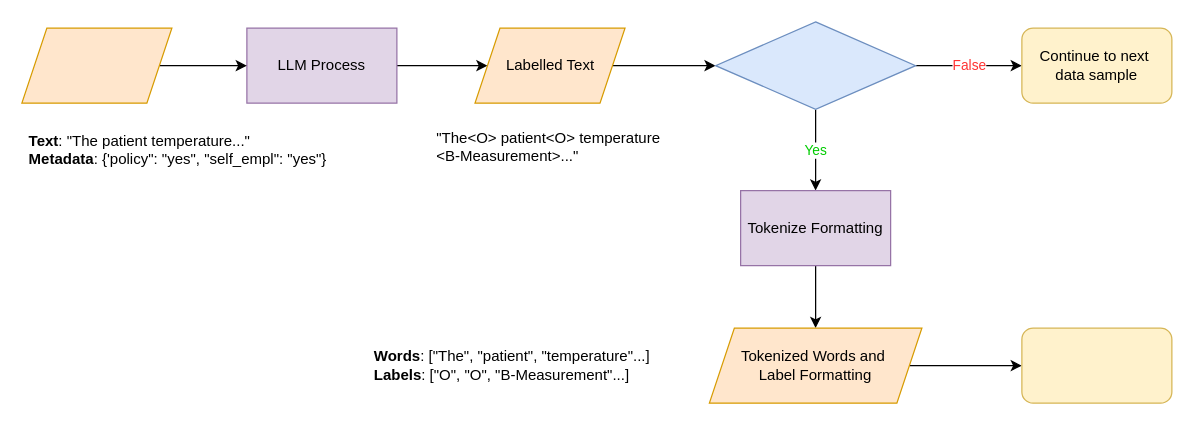
Image size: 1194x425. Some labels were removed from this diagram. The centre of each missing label's shape, as x and y in pixels:
Output Formatting Correct?: the point at 815,65
Raw Text and Metadata: the point at 96,65
Save and continue to next data sample: the point at 1096,365
